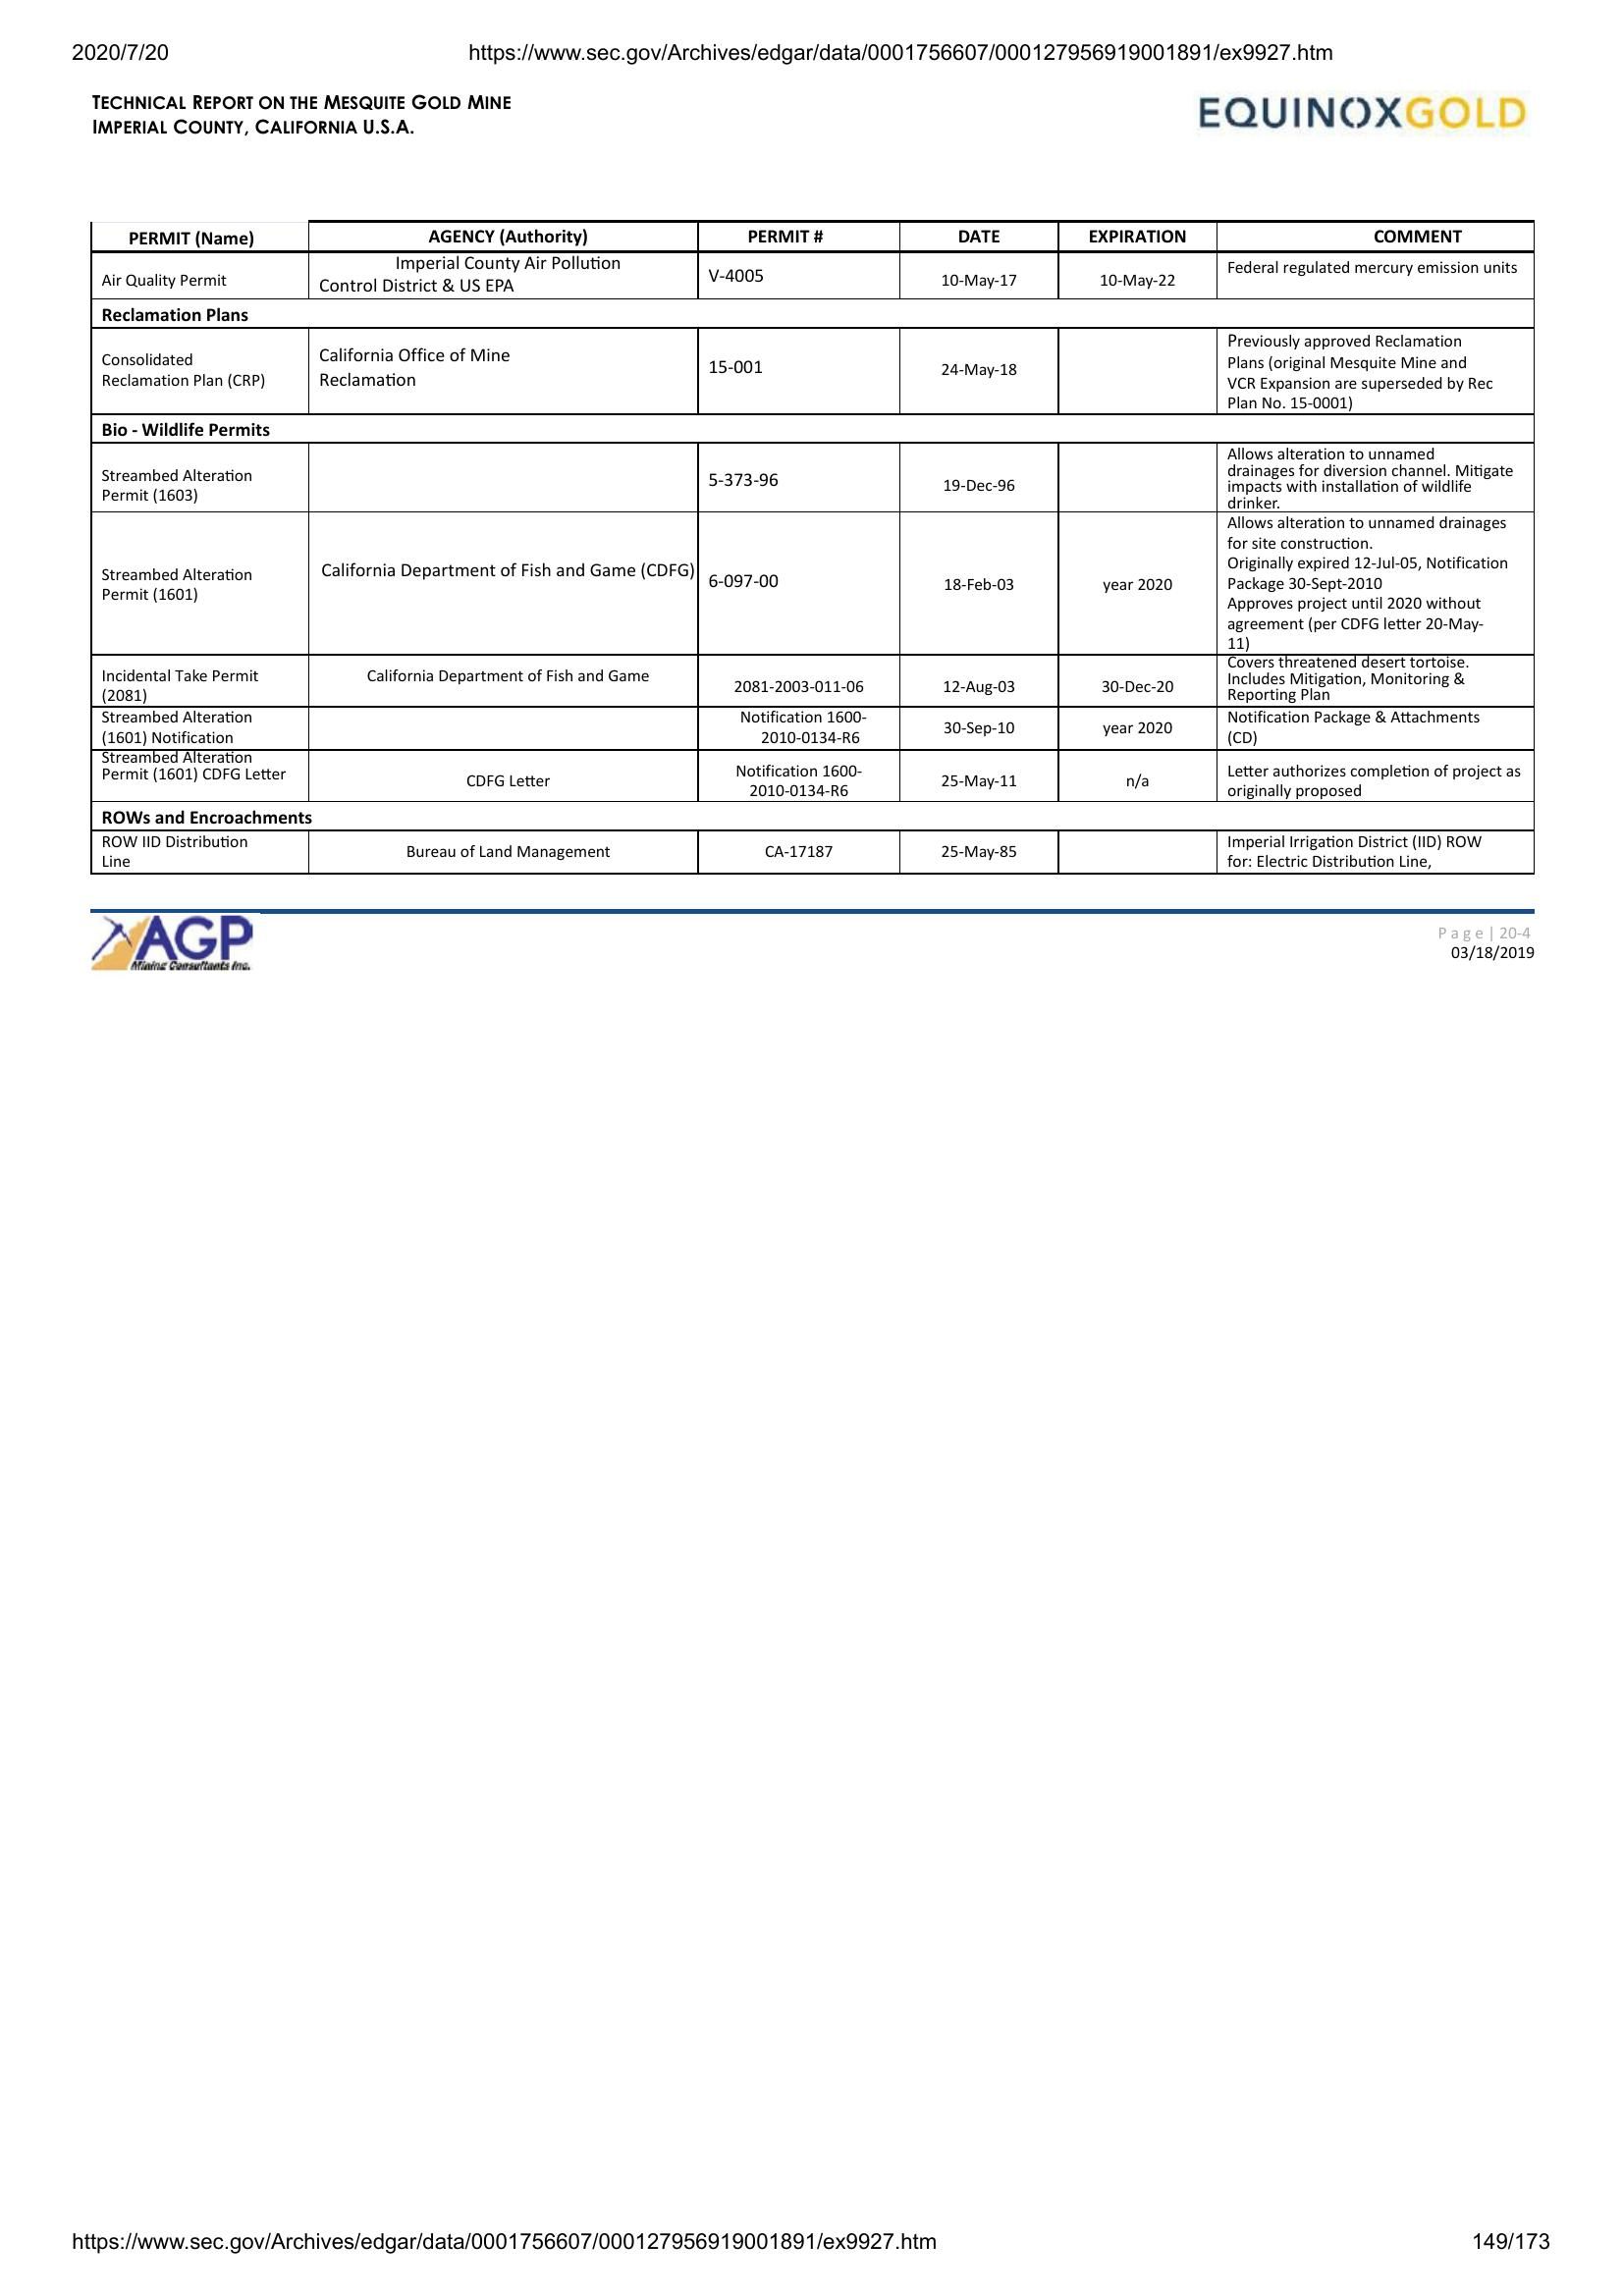table: (83, 218, 1546, 881)
